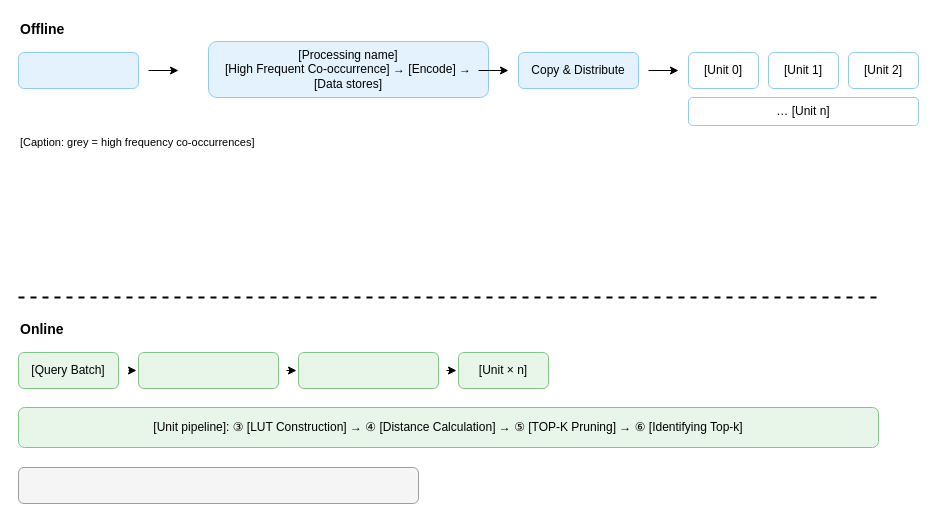
Image size: 936x521. Some labels were removed from this diagram. Each missing label, with the box of its shape:
[Efficient Resource Management]: [Thread Scheduling] & [Memory Management]: (18, 466, 418, 504)
[Encoded points]: (18, 52, 138, 88)
① [Cluster Filtering]: (138, 352, 278, 388)
② [Query Scheduling]: (298, 352, 438, 388)
